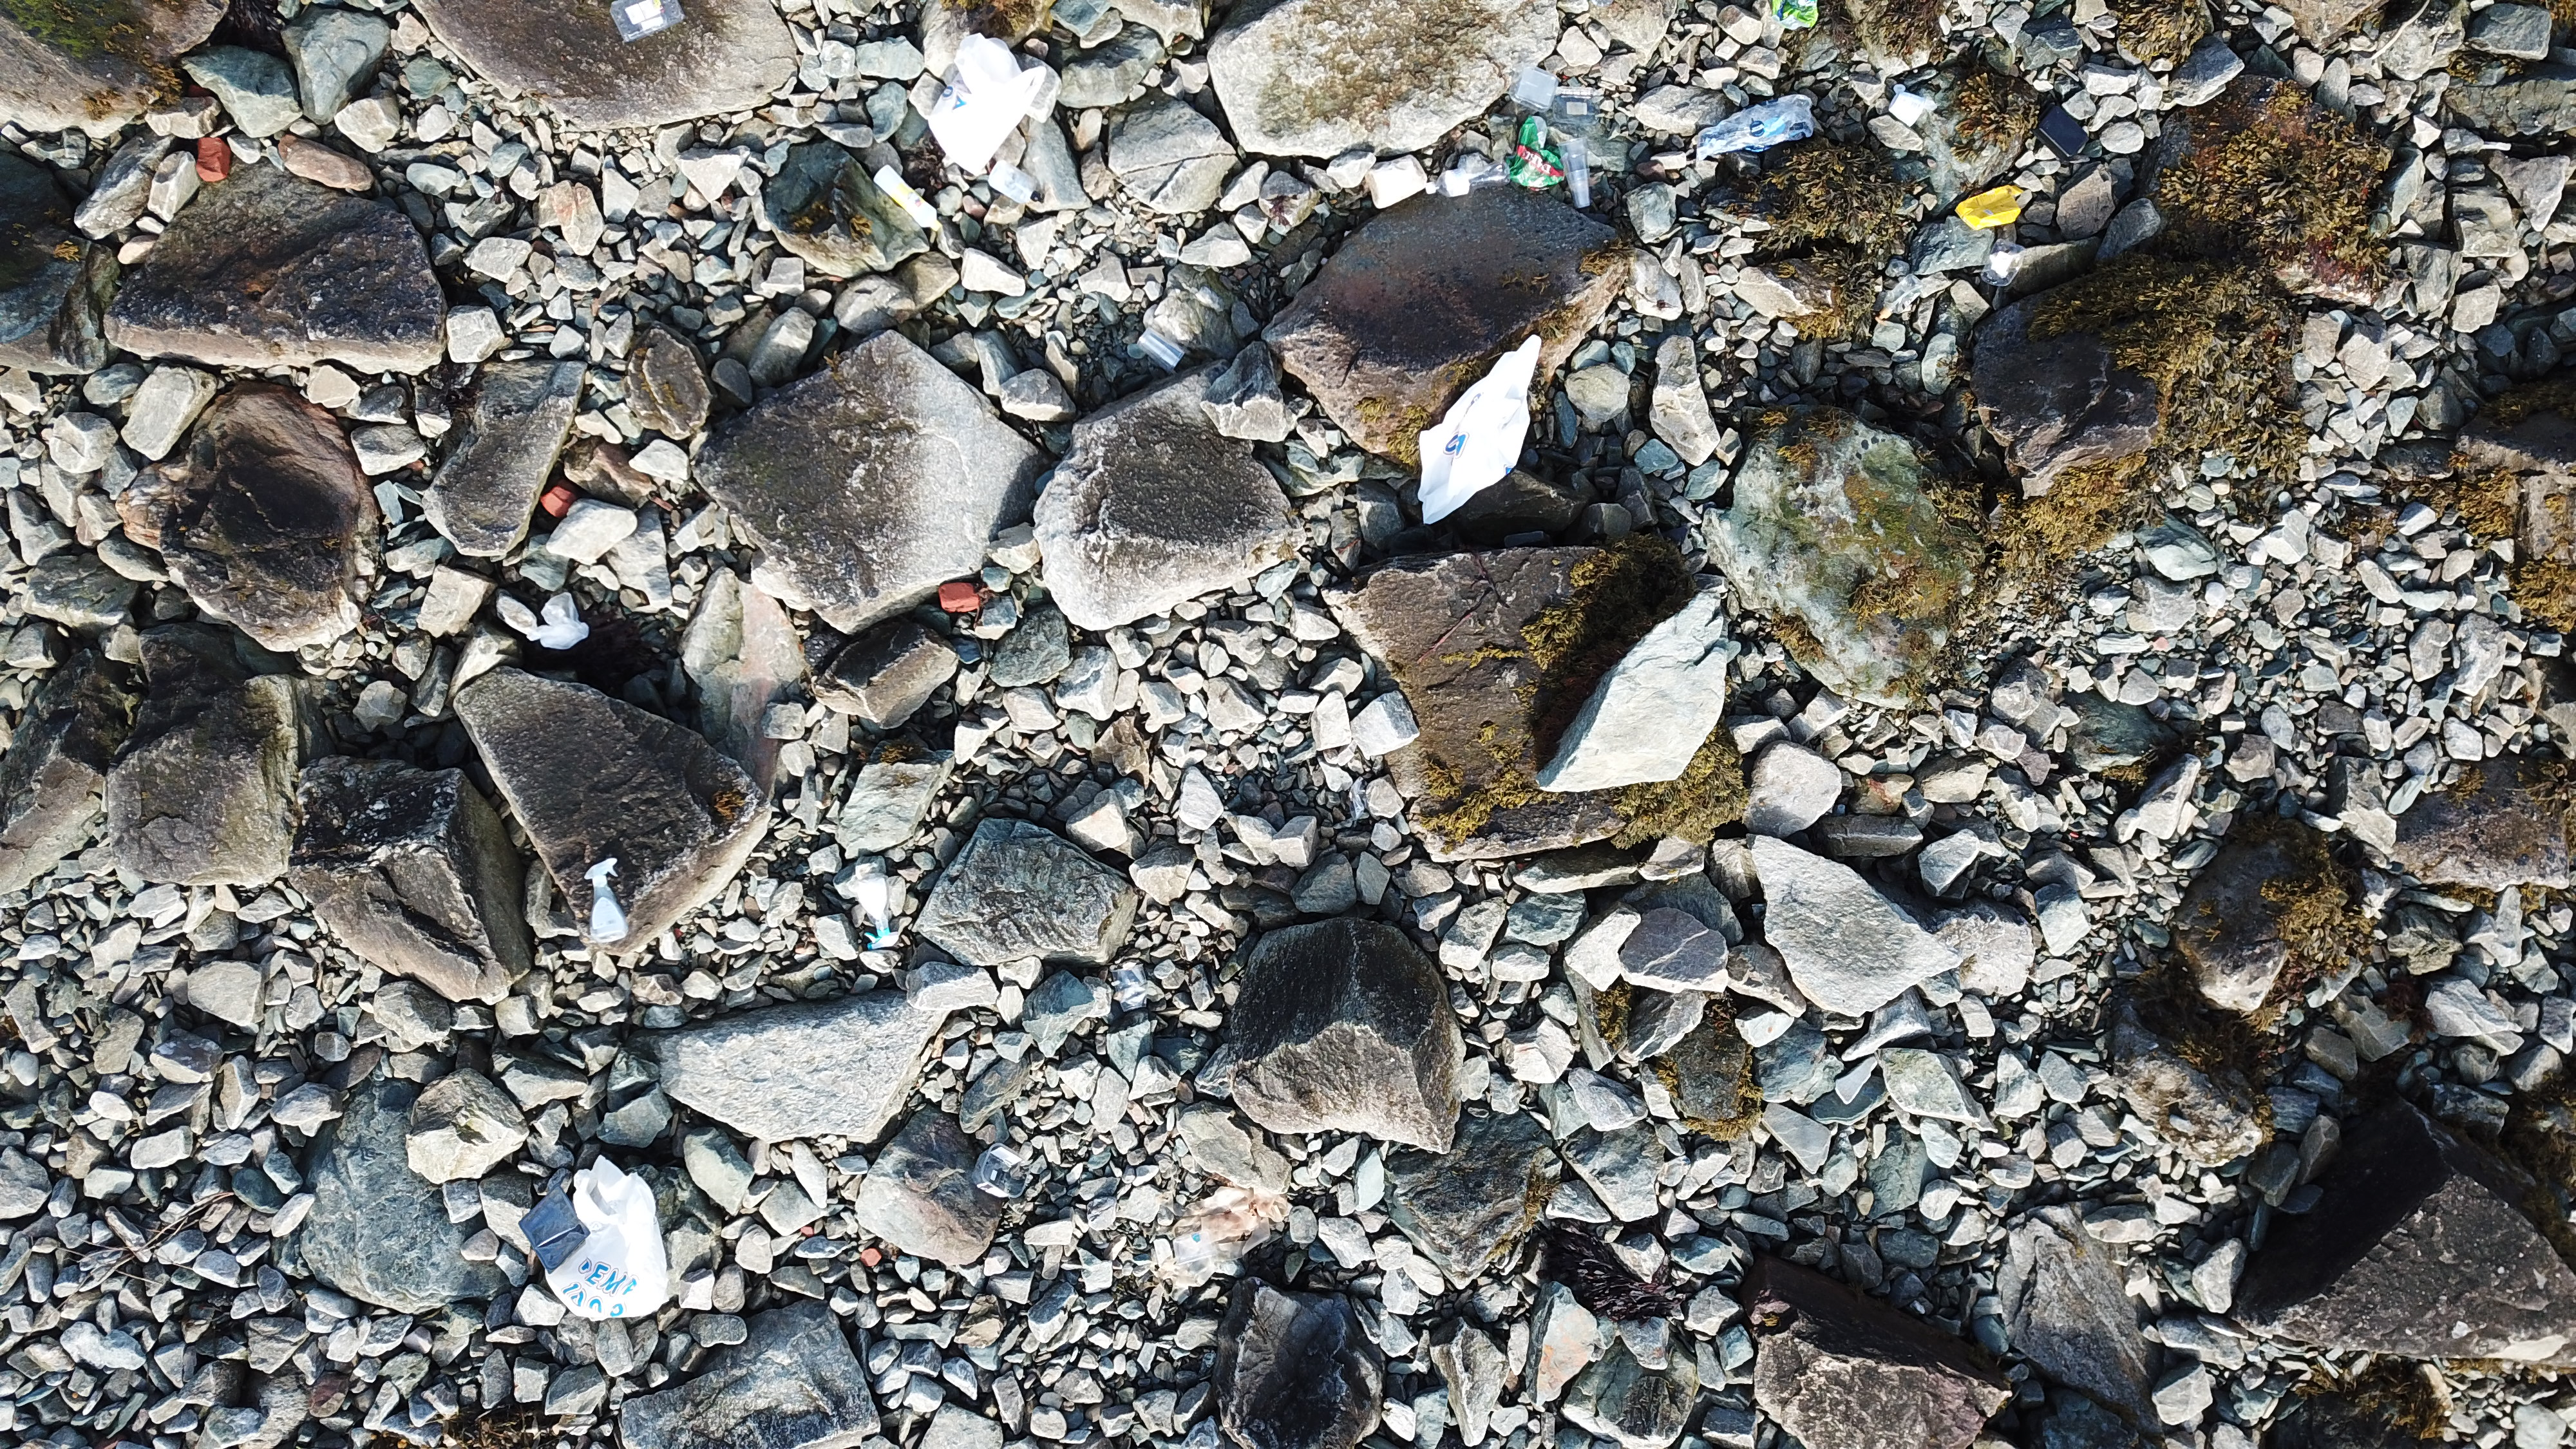Plastic: (1417, 333, 1545, 524), (568, 1154, 671, 1322), (925, 32, 1044, 173), (1688, 94, 1821, 161), (520, 1177, 593, 1267), (874, 163, 943, 234), (580, 853, 633, 943), (527, 589, 589, 649), (975, 1143, 1037, 1198), (609, 0, 685, 42), (1506, 58, 1568, 110), (1959, 182, 2022, 230), (989, 161, 1051, 205), (1560, 134, 1594, 212), (1138, 326, 1191, 372), (1555, 88, 1608, 126), (1983, 237, 2026, 283), (1764, 0, 1821, 34)
